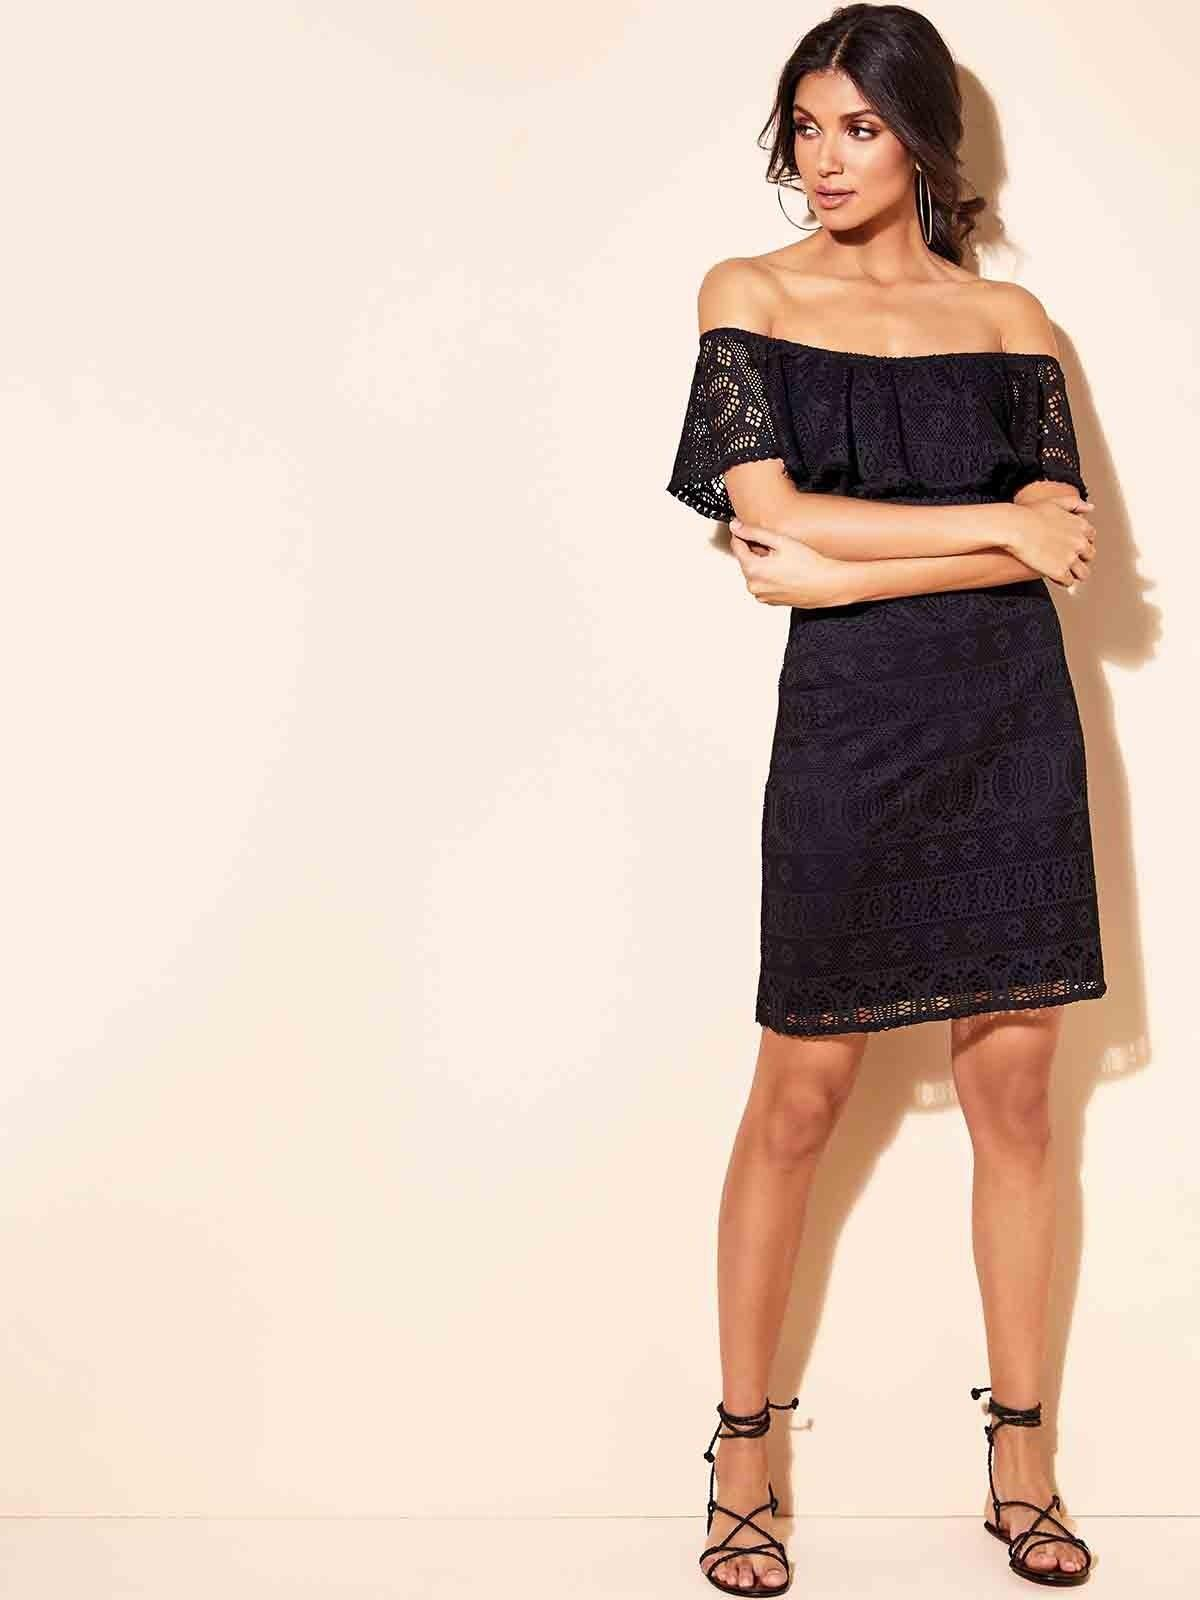S_dress: (661, 311, 1150, 1051)
